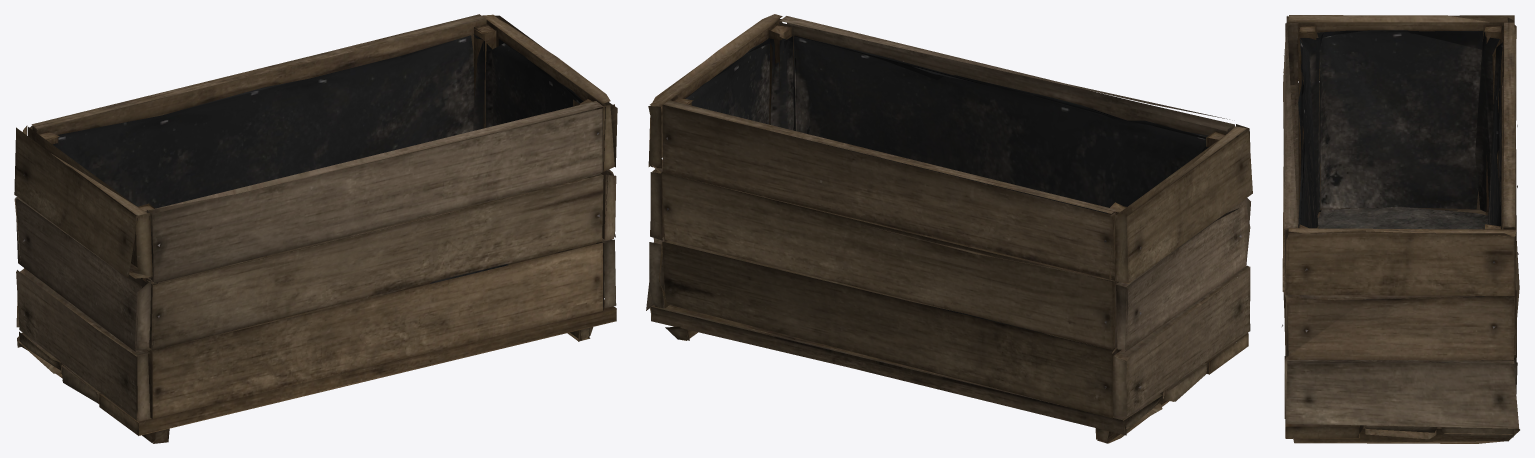
The model's file is planter.glb.
3 renders of one model, left to right at view 1: azimuth 30°, elevation 25°; view 2: azimuth 150°, elevation 25°; view 3: azimuth 270°, elevation 25°, orthographic. The views are drawn at different scales.
Visible parts, largest first — view 1: planter_box_01; view 2: planter_box_01; view 3: planter_box_01.
Part boxes in pixels (box(x1,y1,x2,y2)): planter_box_01: box(14, 14, 617, 443); planter_box_01: box(646, 14, 1252, 443); planter_box_01: box(1282, 15, 1519, 443).
Bounding box in the file's own units: 0.9175 × 0.4319 × 0.4181.
Materials: 1 (1 with a texture image).
